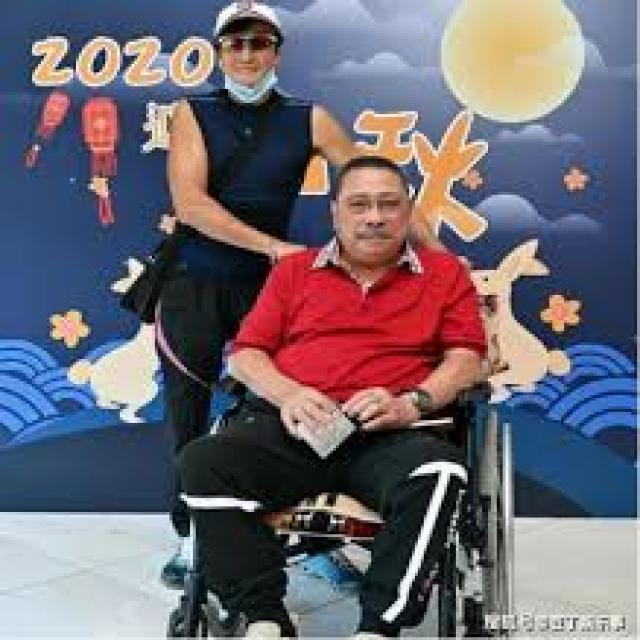wheelchairs: (164, 312, 529, 637)
